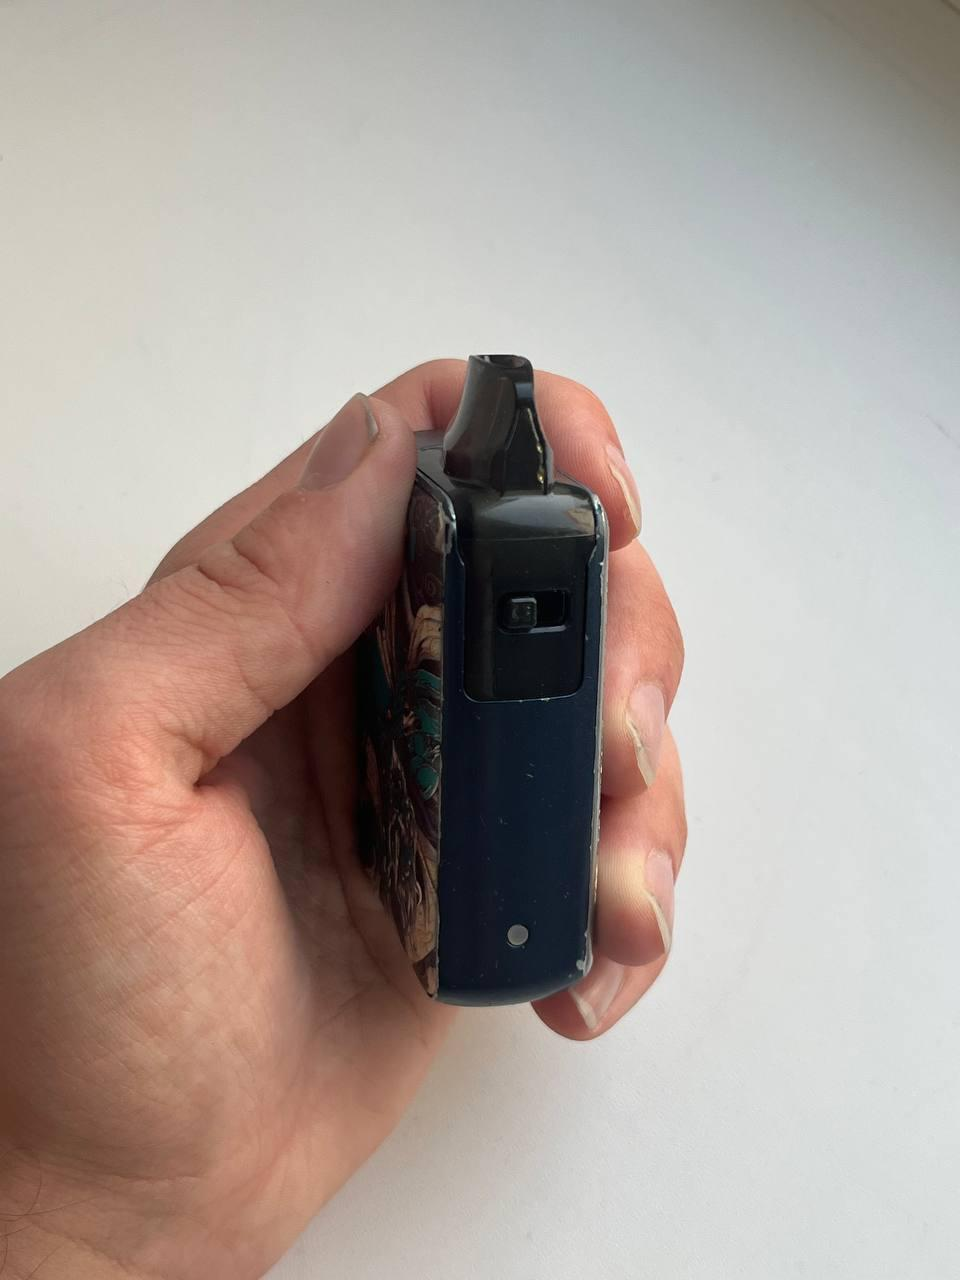Vape: (358, 357, 607, 1004)
